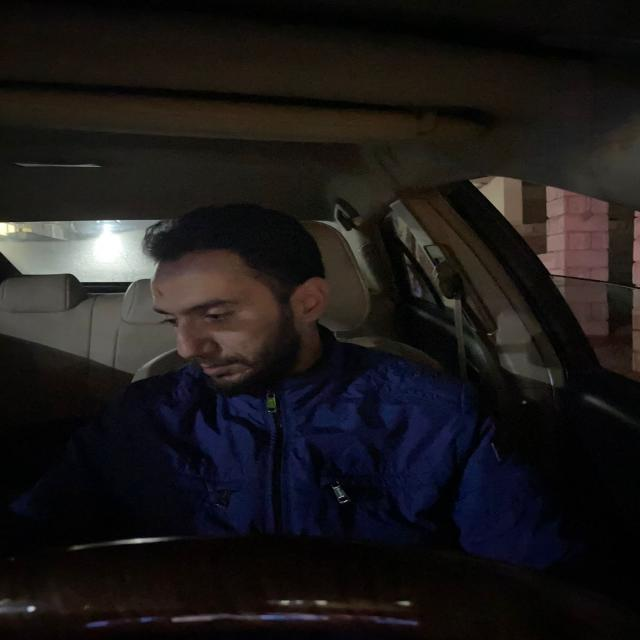person: (136, 211, 340, 398)
